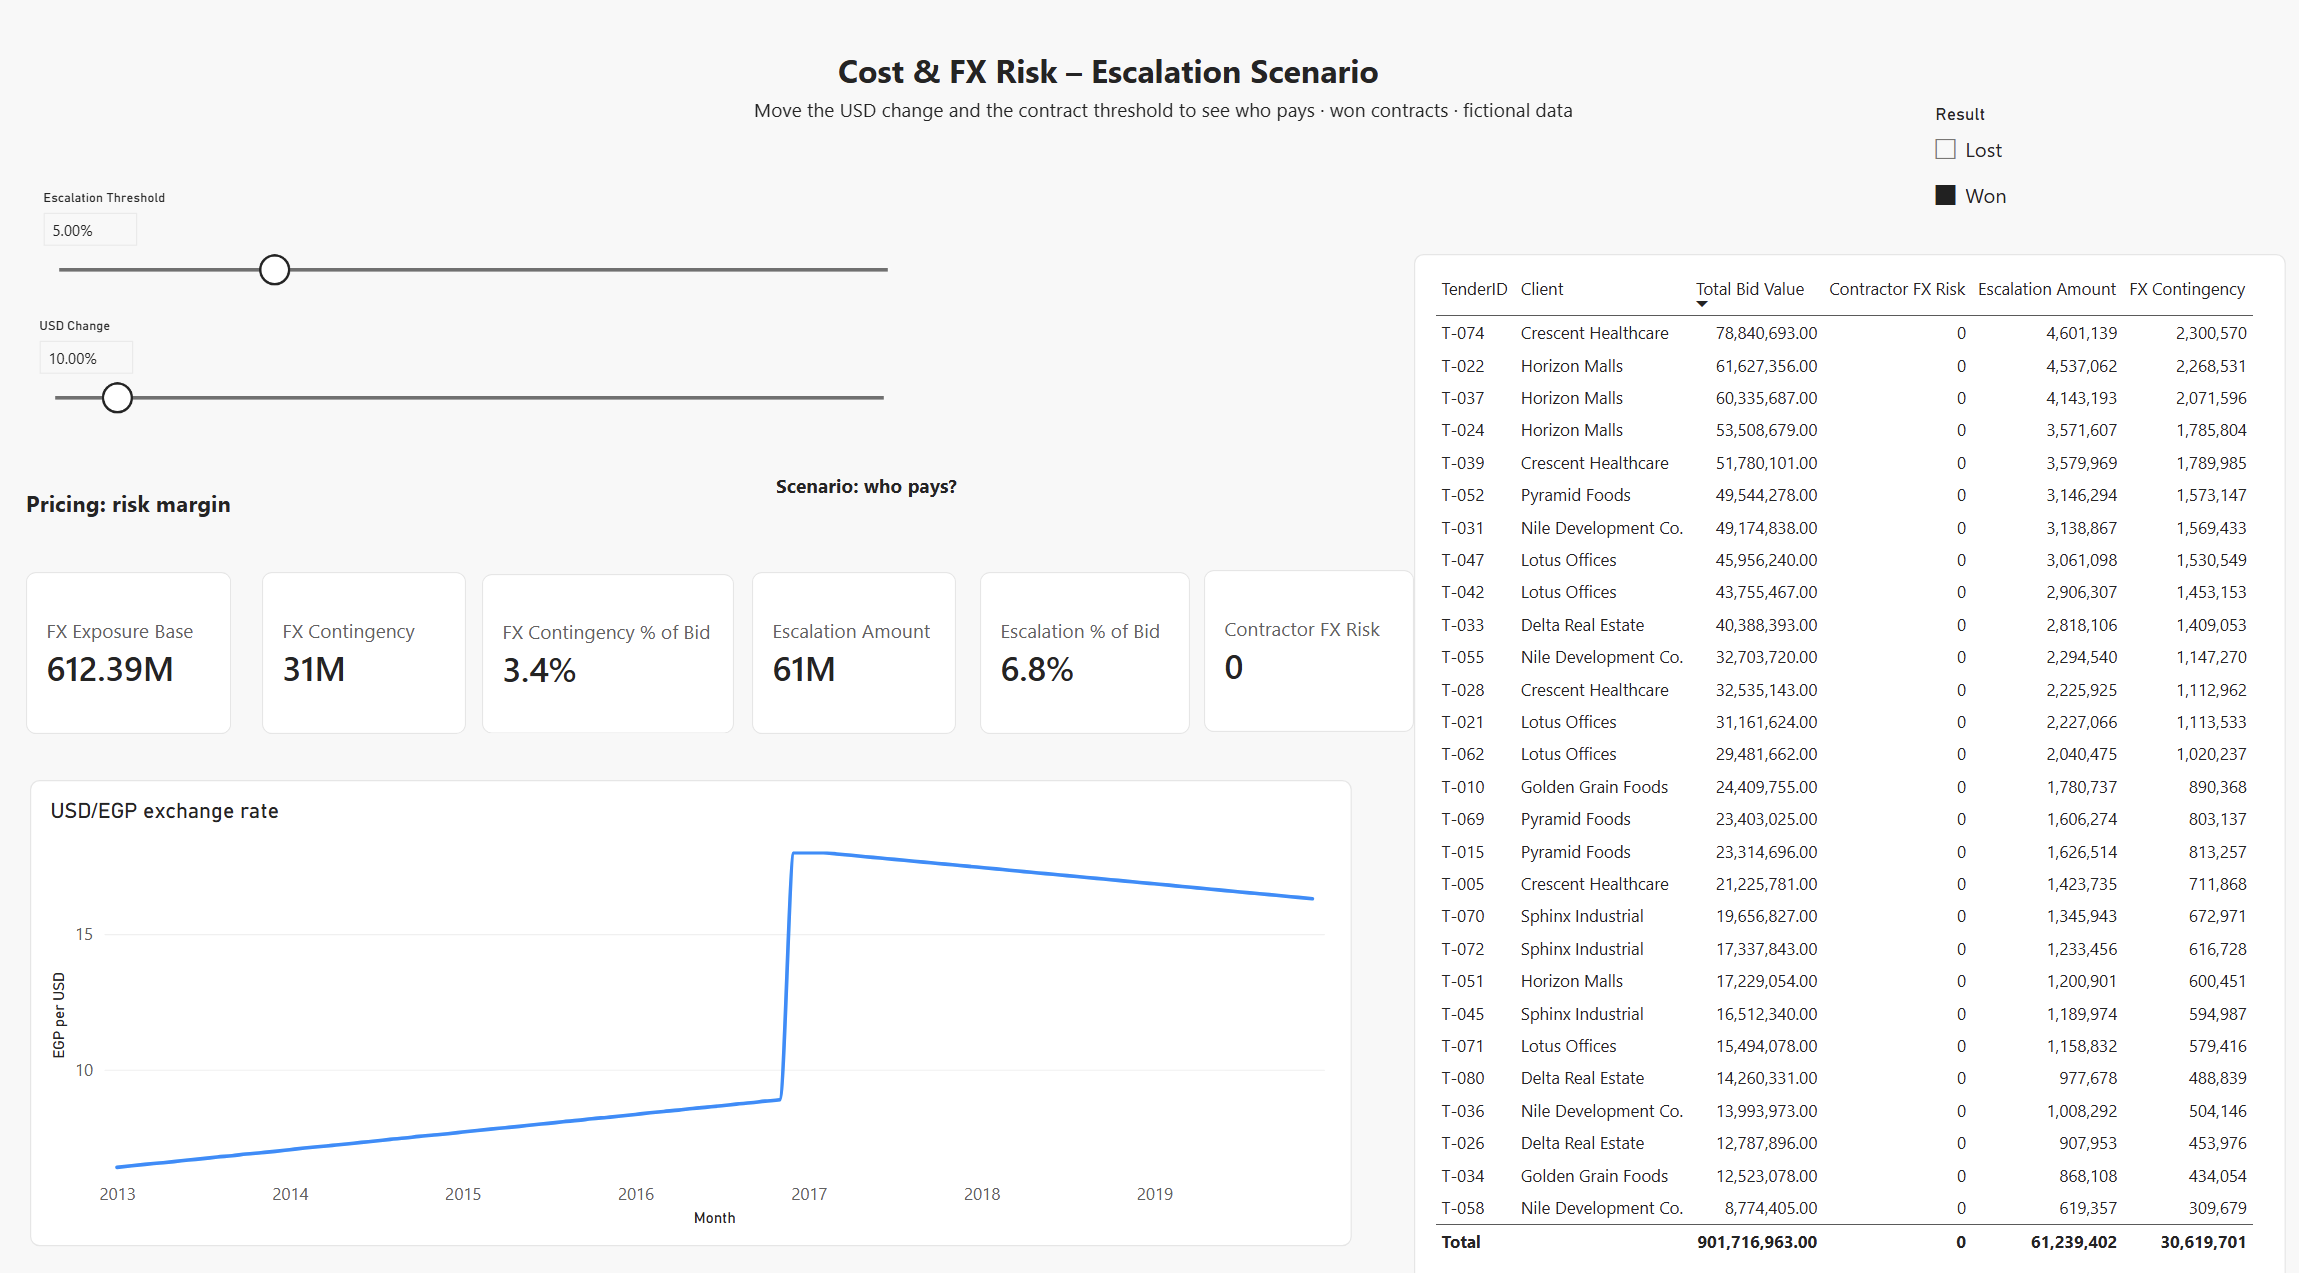

What the dashboard file says about the page in this screenshot:
{"tool":"powerbi","page":{"name":"Cost & FX Risk","canvas":[1920,1080],"ordinal":2},"visuals":[{"type":"slicer","fields":{"Values":["USD Change.USD Change"]},"box":[26.7,265,730,96.7],"z":0},{"type":"cardVisual","fields":{"Data":["boq_items.Escalation Amount"]},"box":[628.3,476.7,170,135],"z":1000},{"type":"cardVisual","fields":{"Data":["boq_items.Escalation % of Bid"]},"box":[818.3,476.7,175,135],"z":2000},{"type":"slicer","fields":{"Values":["Escalation Threshold.Escalation Threshold"]},"box":[29.2,159.2,730,106.7],"z":3000},{"type":"cardVisual","fields":{"Data":["boq_items.FX Exposure Base"]},"box":[22.5,476.7,171.7,135],"z":4000},{"type":"cardVisual","fields":{"Data":["boq_items.FX Contingency"]},"box":[220.8,476.7,170,135],"z":5000},{"type":"cardVisual","fields":{"Data":["boq_items.FX Contingency % of Bid"]},"box":[404.2,478.3,210,133.3],"z":6000},{"type":"cardVisual","fields":{"Data":["boq_items.Contractor FX Risk"]},"box":[1004.2,475.8,175,135],"z":7000},{"type":"slicer","fields":{"Values":["tenders.Result"]},"box":[1606.7,86.7,293.3,95],"z":8000},{"type":"tableEx","fields":{"Values":["tenders.TenderID","tenders.Client","tenders.Total Bid Value","boq_items.Contractor FX Risk","boq_items.Escalation Amount","boq_items.FX Contingency"]},"box":[1180,211.7,726.7,858.3],"z":9000},{"type":"lineChart","title":"USD/EGP exchange rate","fields":{"Category":["Calendar.MonthStart"],"Y":["Calendar.USD Rate"]},"box":[26.7,650,1101.7,388.3],"z":10000},{"type":"textbox","box":[700,40,1200,56],"z":11000},{"type":"textbox","box":[630,80,731.7,150],"z":12000},{"type":"textbox","box":[23.3,407.5,255,33.3],"z":13000},{"type":"textbox","box":[648.3,394.2,198.3,46.7],"z":14000}]}

Visuals, with their boxes in screenshot pixels (x1, y1, x2, y2), scaled from the page's 1920x1080 canvas onto the 2299x1273 screenshot:
slicer - USD Change.USD Change: l=32, t=312, r=906, b=426
cardVisual - boq_items.Escalation Amount: l=752, t=562, r=956, b=721
cardVisual - boq_items.Escalation % of Bid: l=980, t=562, r=1189, b=721
slicer - Escalation Threshold.Escalation Threshold: l=35, t=188, r=909, b=313
cardVisual - boq_items.FX Exposure Base: l=27, t=562, r=233, b=721
cardVisual - boq_items.FX Contingency: l=264, t=562, r=468, b=721
cardVisual - boq_items.FX Contingency % of Bid: l=484, t=564, r=735, b=721
cardVisual - boq_items.Contractor FX Risk: l=1202, t=561, r=1412, b=720
slicer - tenders.Result: l=1924, t=102, r=2275, b=214
tableEx - tenders.TenderID x tenders.Client: l=1413, t=250, r=2283, b=1261
"USD/EGP exchange rate" lineChart: l=32, t=766, r=1351, b=1224
textbox: l=838, t=47, r=2275, b=113
textbox: l=754, t=94, r=1630, b=271
textbox: l=28, t=480, r=333, b=520
textbox: l=776, t=465, r=1014, b=520
